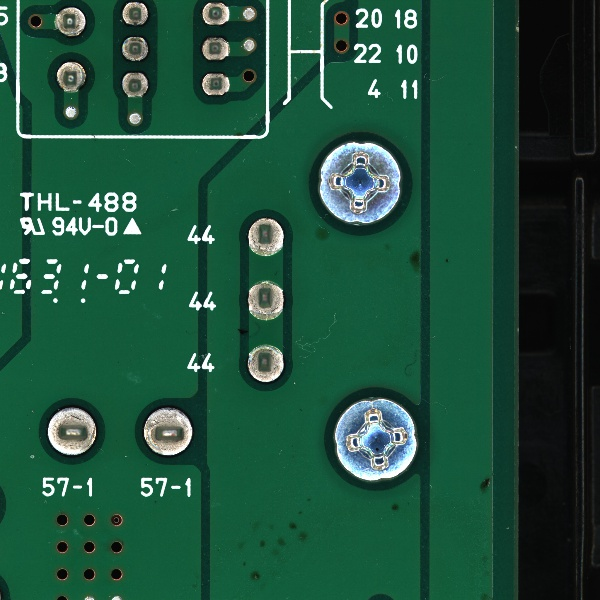Circle: (139, 402, 197, 463), (43, 403, 101, 460), (244, 215, 292, 261), (244, 279, 290, 323), (245, 341, 288, 383), (53, 60, 87, 94), (119, 67, 151, 101), (55, 6, 86, 38), (120, 32, 152, 62), (199, 34, 230, 63), (199, 69, 231, 97), (118, 1, 151, 27), (200, 1, 230, 28)
